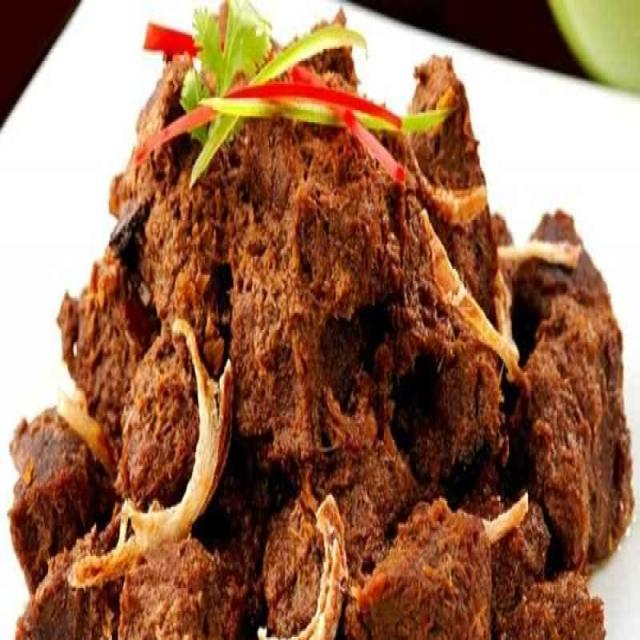Rendang: (14, 30, 633, 640)
